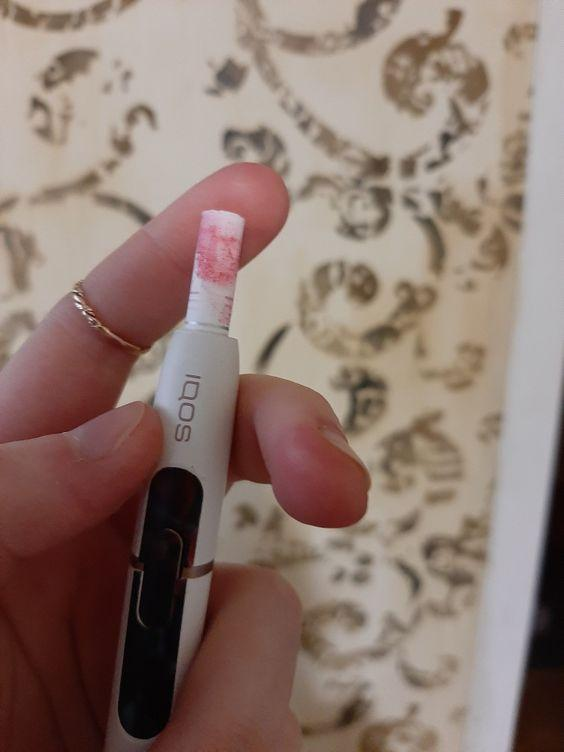iqos: (106, 210, 243, 751)
